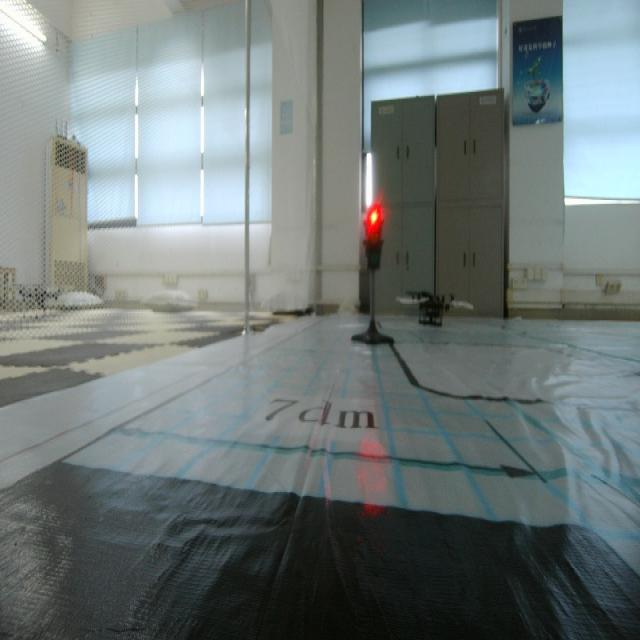red: (360, 202, 386, 278)
